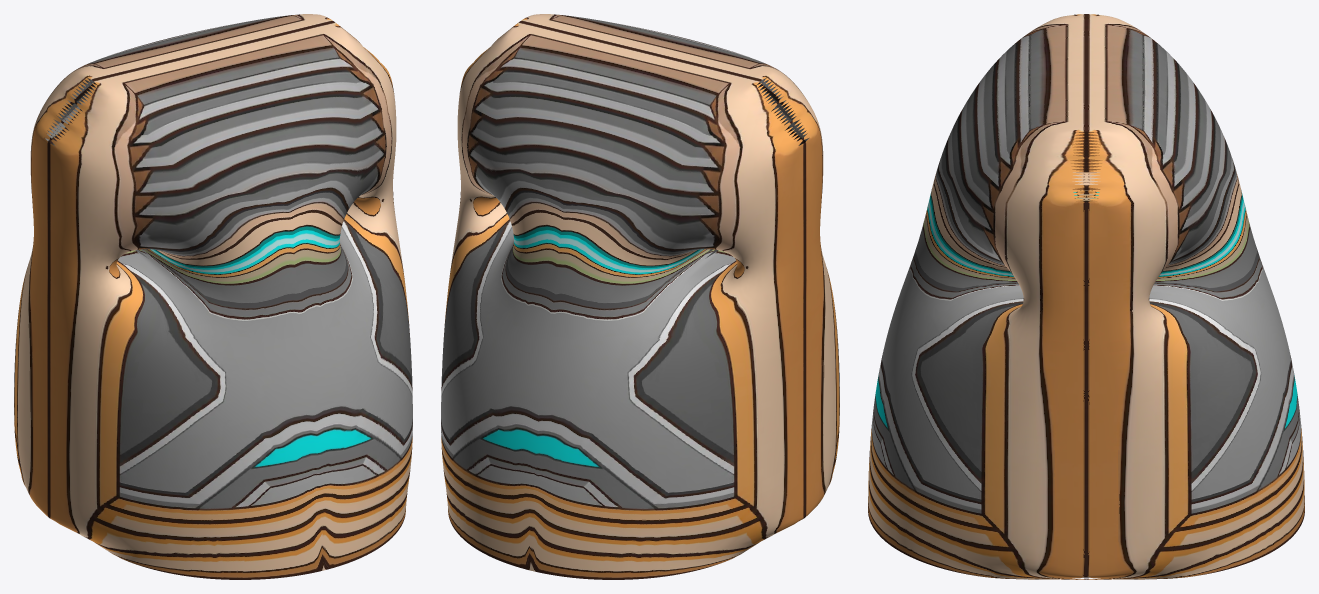
File: west_gate.glb
3 renders of one model, left to right at view 1: azimuth 30°, elevation 25°; view 2: azimuth 150°, elevation 25°; view 3: azimuth 270°, elevation 25°, orthographic.
Parts seen in each view (by area): view 1: west_gate; view 2: west_gate; view 3: west_gate.
Boxes of the visible parts, <box> form: west_gate: <box>14,14,412,579</box>; west_gate: <box>441,14,839,579</box>; west_gate: <box>868,14,1304,579</box>.
Bounding box in the file's own units: 0.9861 × 1.26 × 1.14.
1 material, 1 textured.
